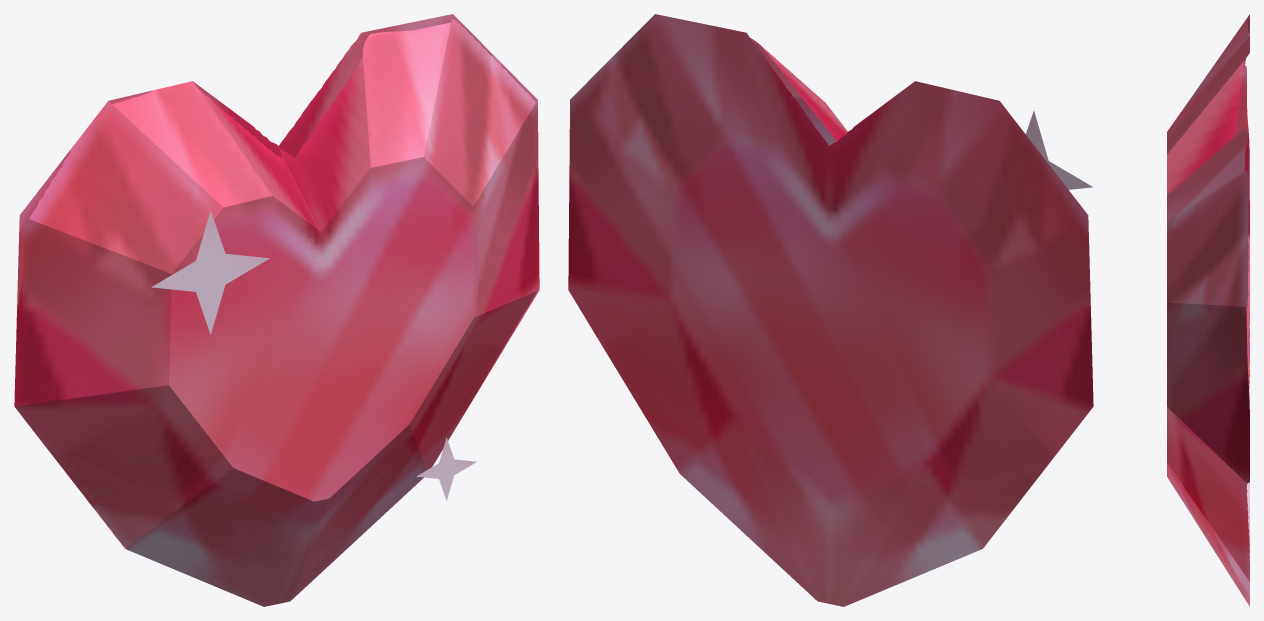
File: corazon.fbx
3 views of the same model, side by side, from view 1: azimuth 30°, elevation 25°; view 2: azimuth 150°, elevation 25°; view 3: azimuth 270°, elevation 25° (orthographic). The views are drawn at different scales.
Visible parts, largest first — view 1: Plane, Plane.001, Plane.002; view 2: Plane, Plane.001; view 3: Plane.
Part boxes in pixels (x1,y1,x2,y2): Plane: [14, 14, 539, 606]; Plane.001: [151, 211, 269, 334]; Plane.002: [416, 437, 476, 500]; Plane: [568, 14, 1093, 606]; Plane.001: [1025, 111, 1092, 189]; Plane: [1167, 14, 1249, 606].
Size of the model in its own units: 192 by 193 by 43.33.
